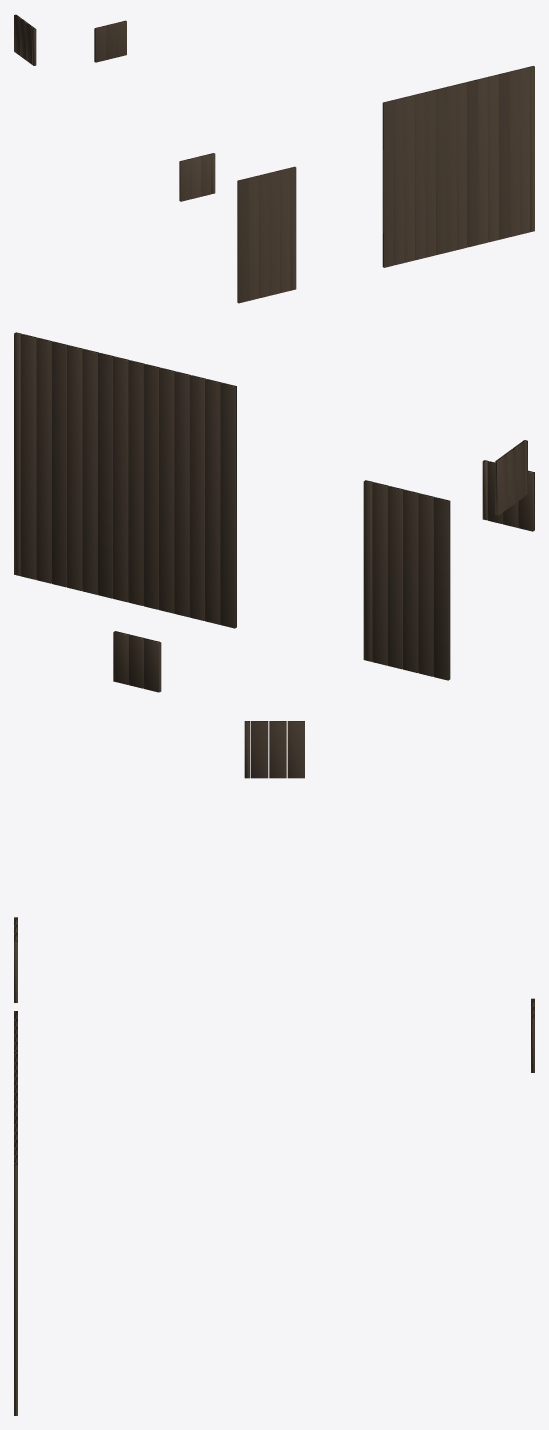
The model's file is SM_BarnWood_02.glb.
The picture shows the model from 3 angles, top to bottom: view 1: azimuth 30°, elevation 25°; view 2: azimuth 150°, elevation 25°; view 3: azimuth 270°, elevation 25°; orthographic projection. The views are drawn at different scales.
Parts seen in each view (by area): view 1: SM_BarnWood_02; view 2: SM_BarnWood_02; view 3: SM_BarnWood_02.
Part boxes in pixels (<box>): SM_BarnWood_02: <box>14,14,534,303</box>; SM_BarnWood_02: <box>14,332,534,692</box>; SM_BarnWood_02: <box>14,721,534,1415</box>.
Bounding box in the file's own units: 7.3 × 4.1 × 5.1.
